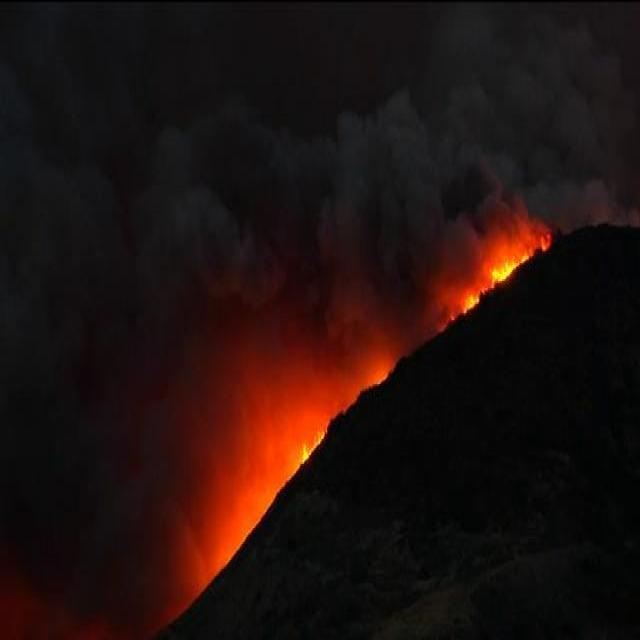Fire: (448, 240, 550, 328), (295, 424, 327, 471)
Smoke: (140, 49, 564, 330), (517, 180, 623, 230)
